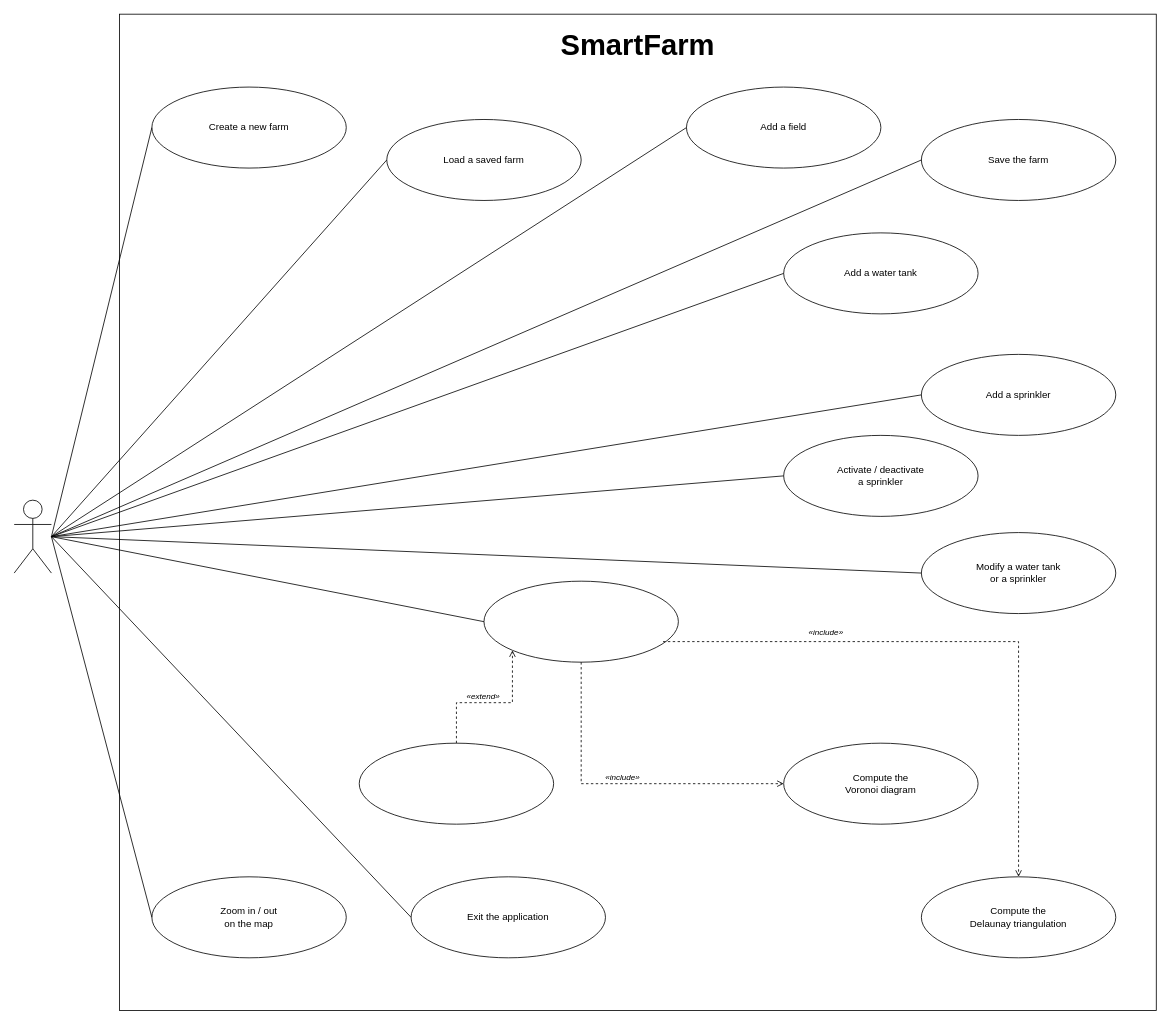
Some shapes in this 1170 by 1025 pixel diagram are drawn without their labels. Here are the shapes that lost their labels. From the top down, the centre of each, then its label:
At pixel 32 536: "User".
At pixel 580 621: "View the farm map".
At pixel 456 783: "View element details (water tank / sprinkler)".
